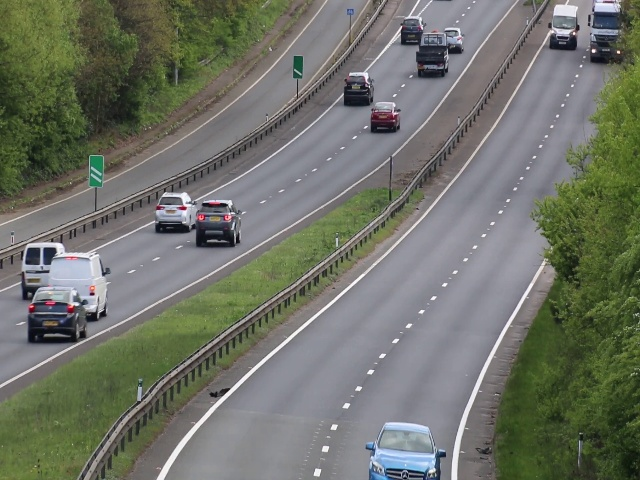car: (49, 253, 110, 315), (373, 422, 436, 480), (26, 290, 89, 341), (18, 243, 67, 299), (587, 1, 625, 62), (197, 197, 240, 248), (151, 191, 198, 230), (418, 32, 449, 78), (551, 3, 577, 52), (343, 72, 373, 107), (371, 101, 401, 132), (401, 15, 424, 46), (447, 25, 463, 54)
